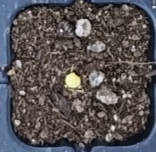pepper seed: (23, 26, 105, 116)
